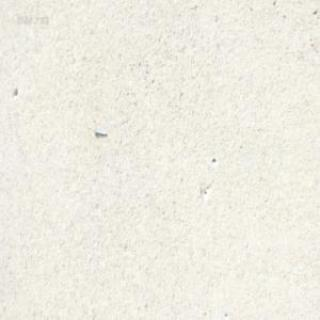Nailtrack_idkeyframe: (92, 126, 106, 136)
